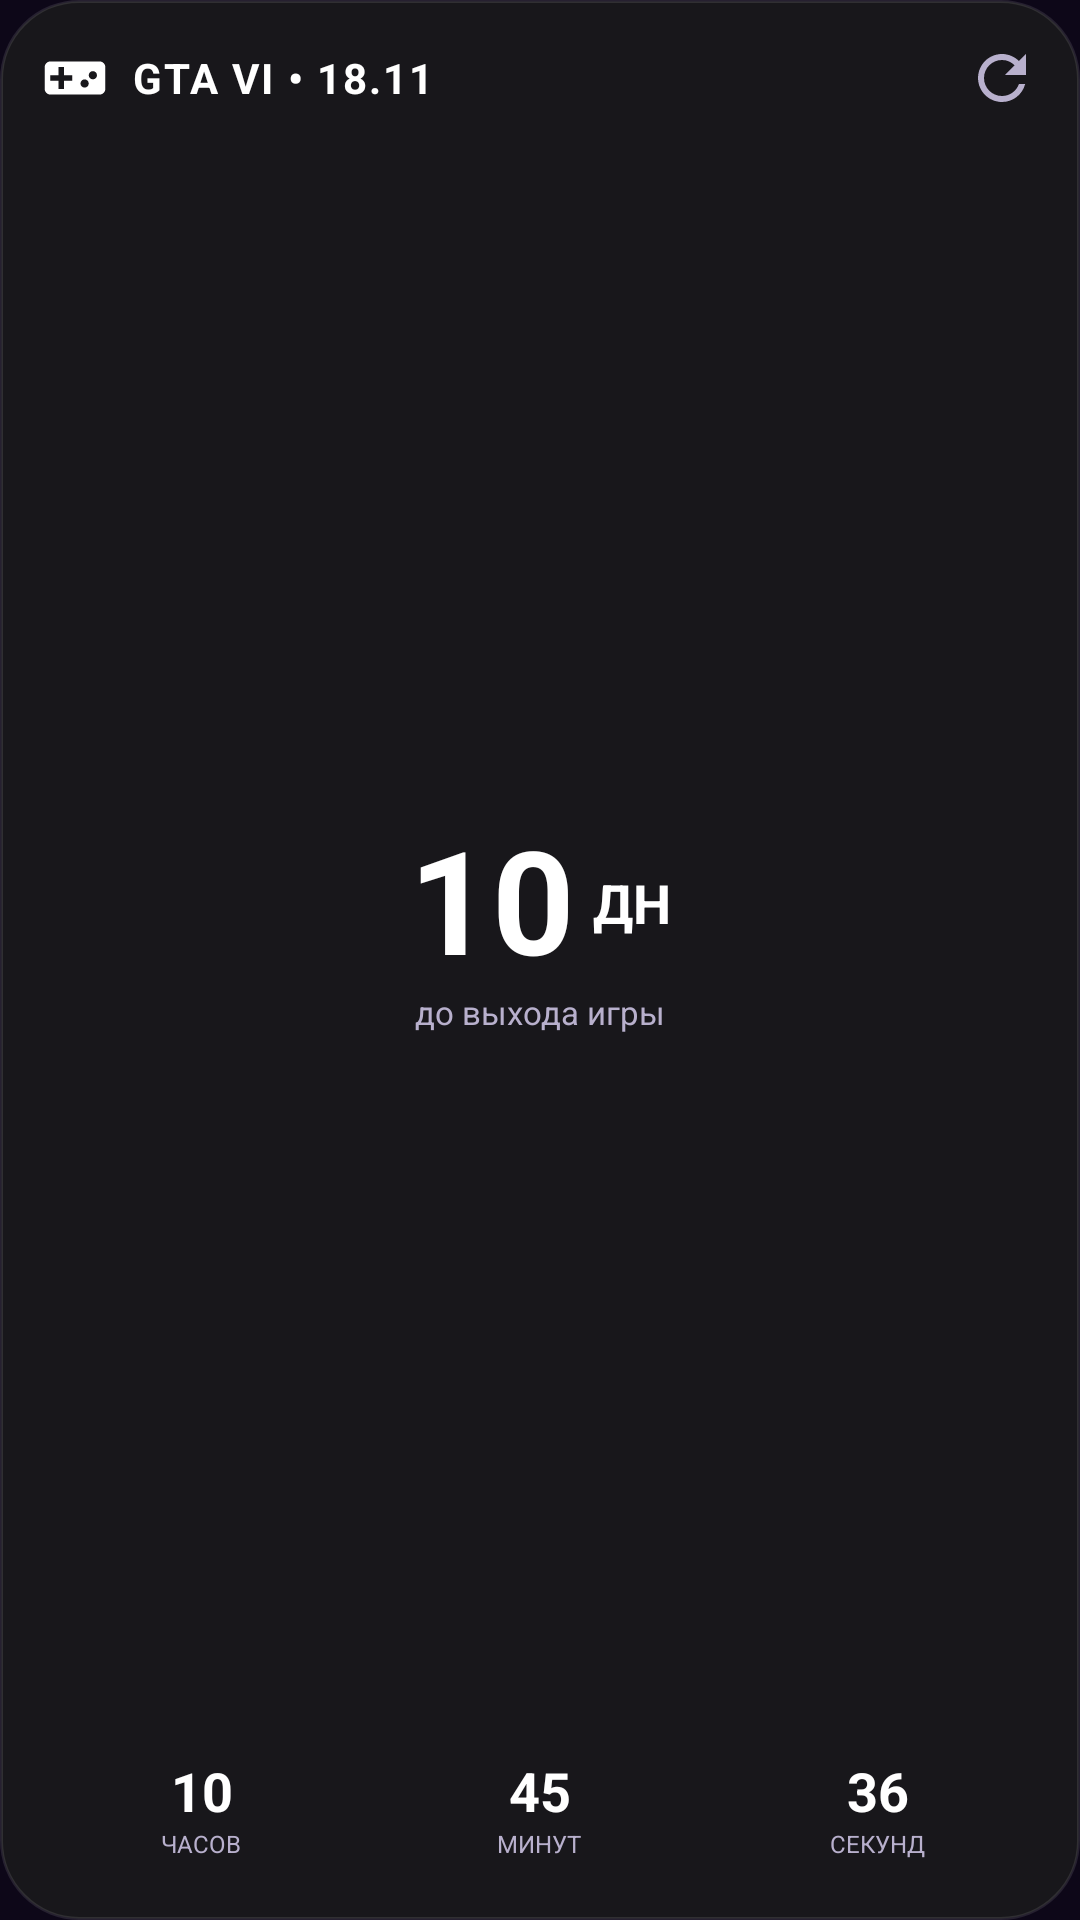

Screen size 1080px×1920px. Icon name, then its center in pixels as (x,y):
gamepad: (75,78)
Refresh: (1002,78)
